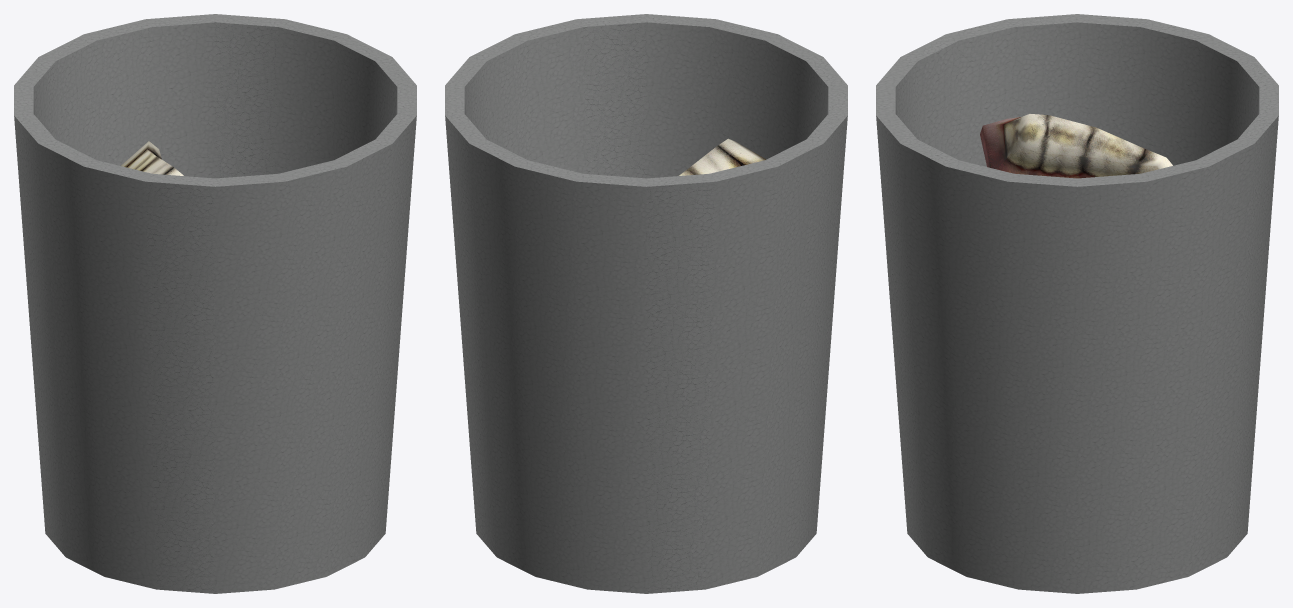
File: water_glass_teeth.DAE
The picture shows the model from 3 angles, left to right: view 1: azimuth 30°, elevation 25°; view 2: azimuth 150°, elevation 25°; view 3: azimuth 270°, elevation 25°; orthographic projection.
Visible parts, largest first — view 1: Cylinder009, Cylinder001; view 2: Cylinder009, Cylinder001; view 3: Cylinder009, Cylinder001.
Boxes of the visible parts, <box> form: Cylinder009: <box>14,14,416,593</box>; Cylinder001: <box>121,141,183,175</box>; Cylinder009: <box>445,14,847,593</box>; Cylinder001: <box>679,138,765,175</box>; Cylinder009: <box>876,14,1278,593</box>; Cylinder001: <box>980,114,1172,178</box>.
Size of the model in its own units: 0.1206 by 0.1368 by 0.1188.
